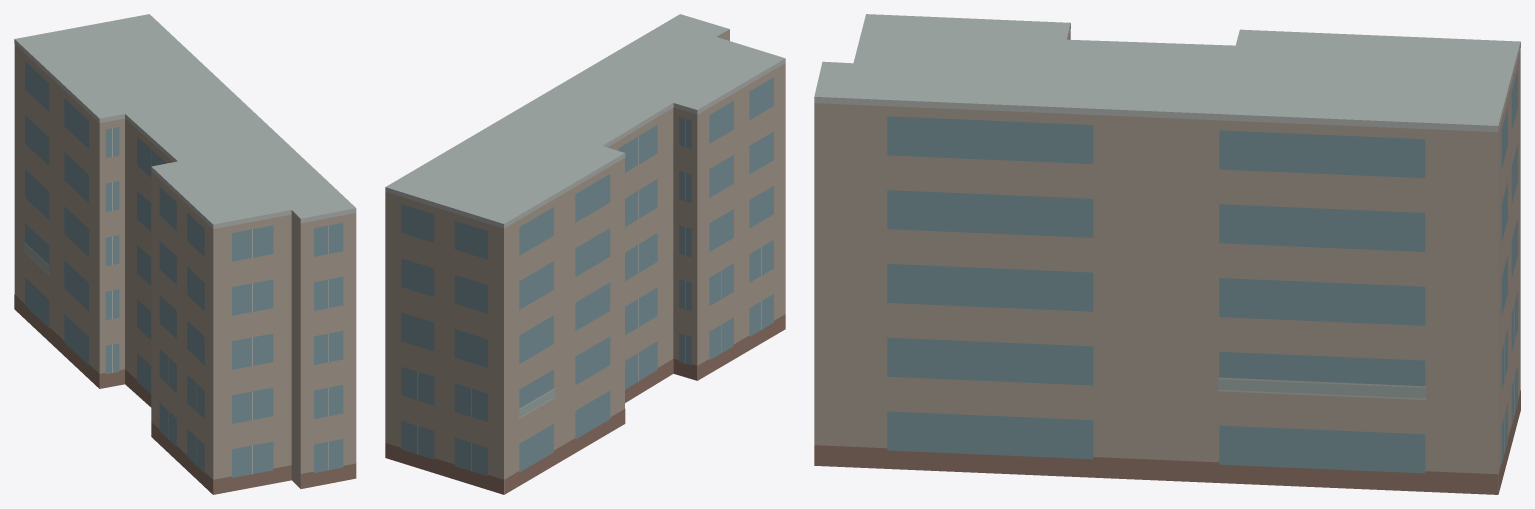
Rendered from survey-upis-32945837.glb.
3 renders of one model, left to right at view 1: azimuth 30°, elevation 25°; view 2: azimuth 150°, elevation 25°; view 3: azimuth 270°, elevation 25°, orthographic. The views are drawn at different scales.
Parts seen in each view (by area): view 1: survey-upis-32945837.tmp; view 2: survey-upis-32945837.tmp; view 3: survey-upis-32945837.tmp.
Part boxes in pixels (x1,y1,x2,y2): survey-upis-32945837.tmp: [14, 14, 356, 494]; survey-upis-32945837.tmp: [385, 14, 785, 494]; survey-upis-32945837.tmp: [814, 14, 1520, 494].
Size of the model in its own units: 9.31 by 14.3 by 24.83.
